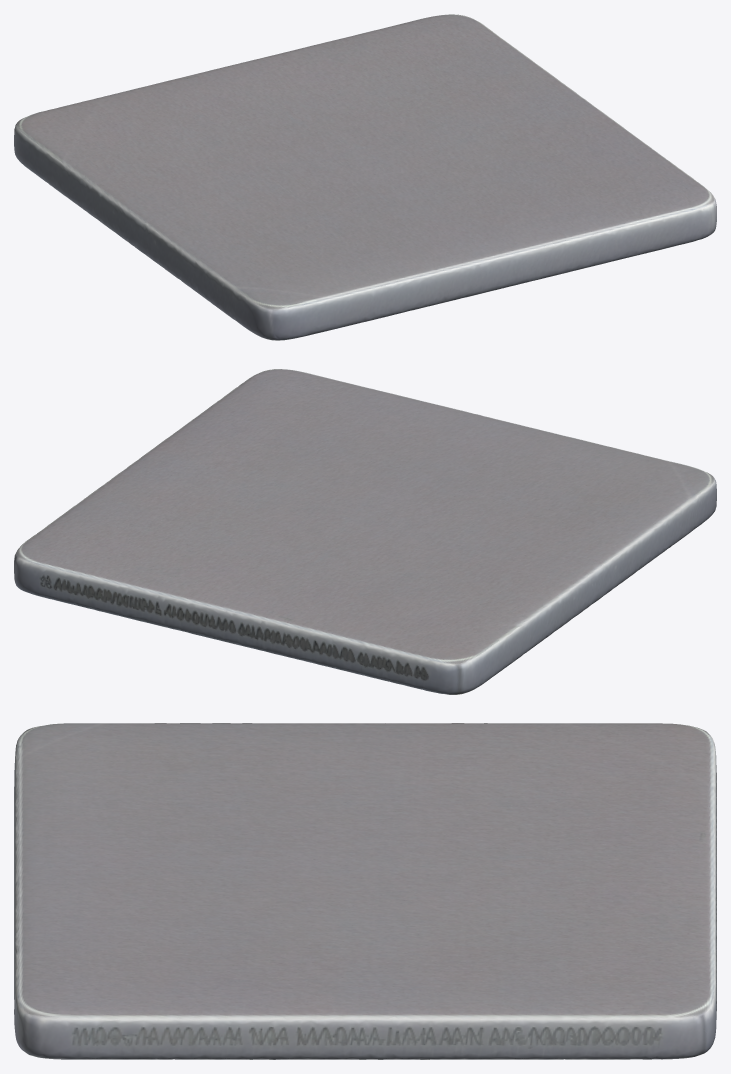
File: DDP_기단.glb
3 renders of one model, top to bottom at view 1: azimuth 30°, elevation 25°; view 2: azimuth 150°, elevation 25°; view 3: azimuth 270°, elevation 25°, orthographic. The views are drawn at different scales.
Parts seen in each view (by area): view 1: texture_mapping; view 2: texture_mapping; view 3: texture_mapping.
Boxes of the visible parts, left/top/right/bottom form: texture_mapping: left=14, top=14, right=716, bottom=340; texture_mapping: left=14, top=369, right=716, bottom=694; texture_mapping: left=14, top=723, right=716, bottom=1059.
Bounding box in the file's own units: 1 × 0.0784 × 0.9998.
1 material, 1 textured.
